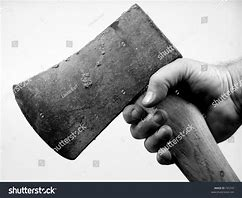axe: (10, 2, 242, 183)
